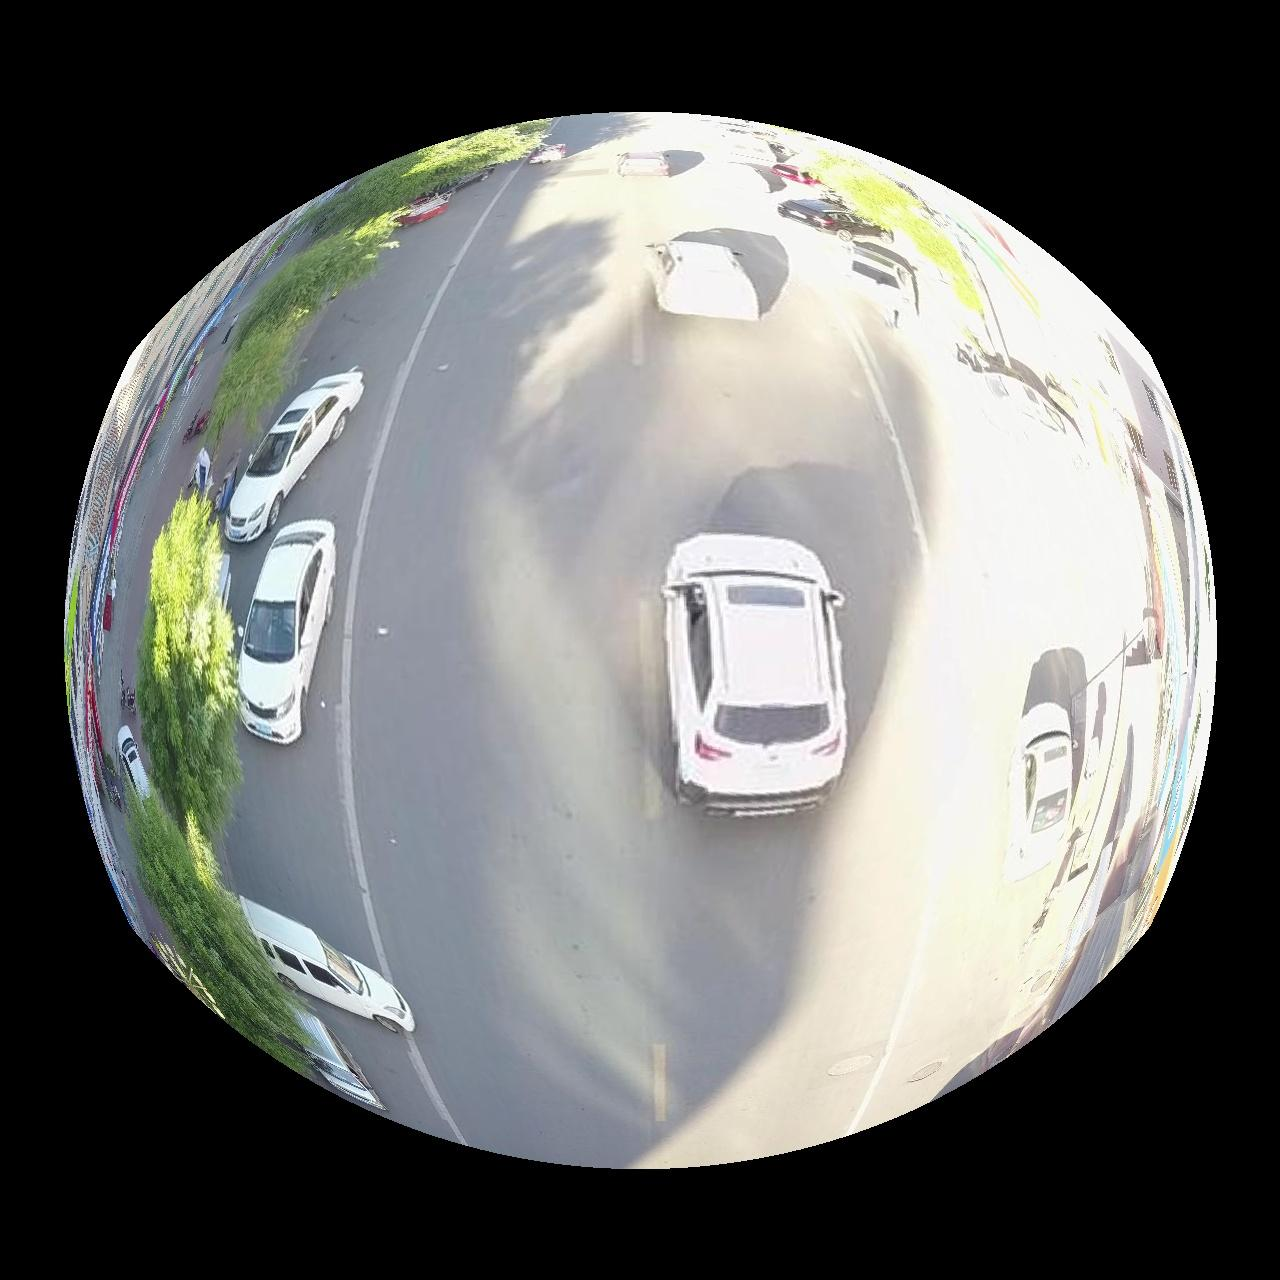cars: (665, 536, 849, 815), (223, 369, 363, 543), (240, 899, 415, 1034), (237, 520, 335, 744), (1009, 703, 1076, 880), (297, 1013, 384, 1112), (653, 240, 758, 320)
trees: (207, 120, 544, 440), (125, 495, 306, 1070)
